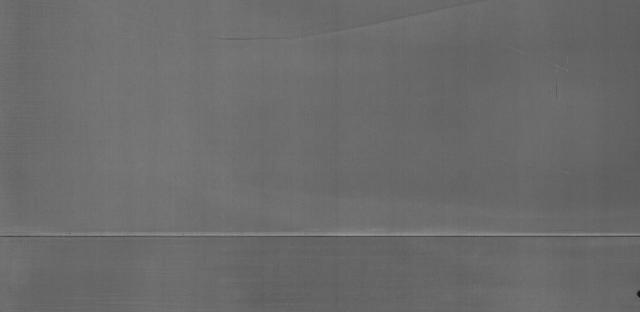welding_line: (2, 224, 640, 247)
